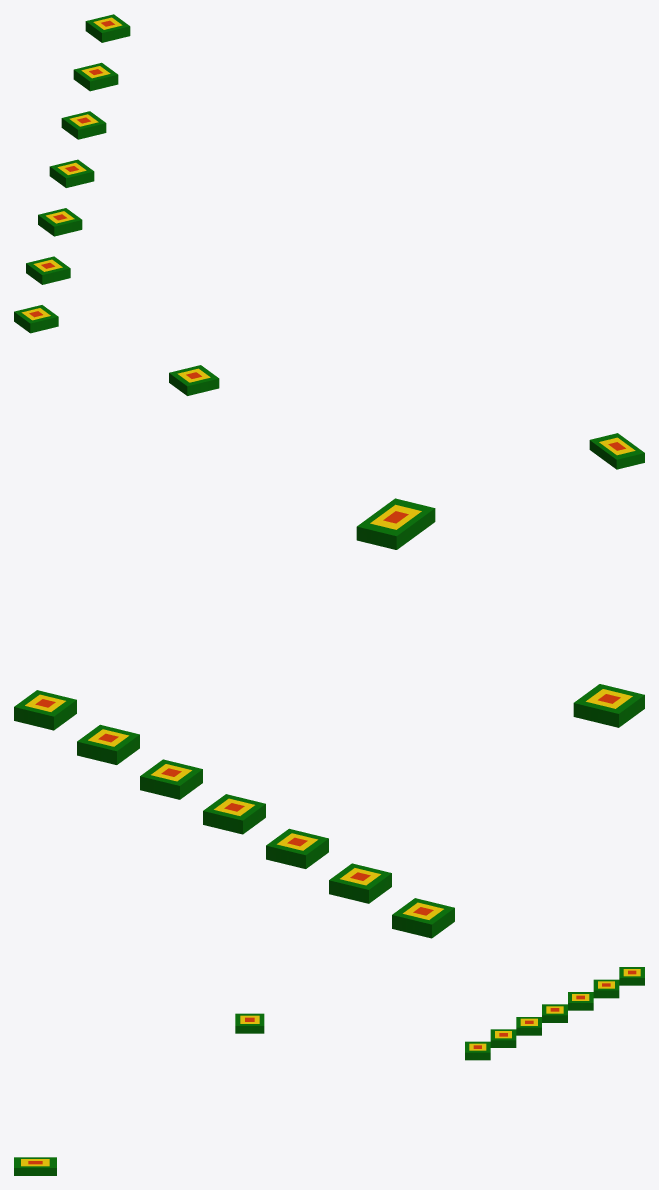
Rendered from JumpPads.fbx.
3 renders of one model, top to bottom at view 1: azimuth 30°, elevation 25°; view 2: azimuth 150°, elevation 25°; view 3: azimuth 270°, elevation 25°, orthographic. The views are drawn at different scales.
Parts seen in each view (by area): view 1: J8, J9, J6, J3, J4, J5, J2, J7, J1; view 2: J8, J9, J1, J3, J4, J6, J7, J2, J5; view 3: J8, J9, J5, J7, J1, J2, J3, J4, J6.
Boxes of the visible parts, x1=… form: J8: x1=589, y1=433, x2=644, y2=469; J9: x1=169, y1=365, x2=219, y2=395; J6: x1=85, y1=14, x2=130, y2=42; J3: x1=49, y1=159, x2=94, y2=187; J4: x1=61, y1=111, x2=106, y2=139; J5: x1=73, y1=62, x2=118, y2=91; J2: x1=38, y1=208, x2=82, y2=236; J7: x1=14, y1=305, x2=58, y2=333; J1: x1=26, y1=256, x2=70, y2=284; J8: x1=356, y1=498, x2=435, y2=549; J9: x1=573, y1=684, x2=644, y2=727; J1: x1=329, y1=863, x2=391, y2=903; J3: x1=203, y1=794, x2=265, y2=834; J4: x1=140, y1=759, x2=202, y2=799; J6: x1=14, y1=690, x2=76, y2=730; J7: x1=392, y1=898, x2=454, y2=938; J2: x1=266, y1=828, x2=328, y2=868; J5: x1=77, y1=724, x2=139, y2=764; J8: x1=14, y1=1157, x2=56, y2=1175; J9: x1=235, y1=1013, x2=264, y2=1033; J5: x1=593, y1=979, x2=619, y2=998; J7: x1=465, y1=1041, x2=490, y2=1060; J1: x1=490, y1=1029, x2=516, y2=1047; J2: x1=516, y1=1017, x2=541, y2=1035; J3: x1=542, y1=1004, x2=567, y2=1022; J4: x1=568, y1=992, x2=593, y2=1010; J6: x1=619, y1=967, x2=644, y2=985.
Size of what is drawn, in the model's own units: 349 by 190 by 736.
